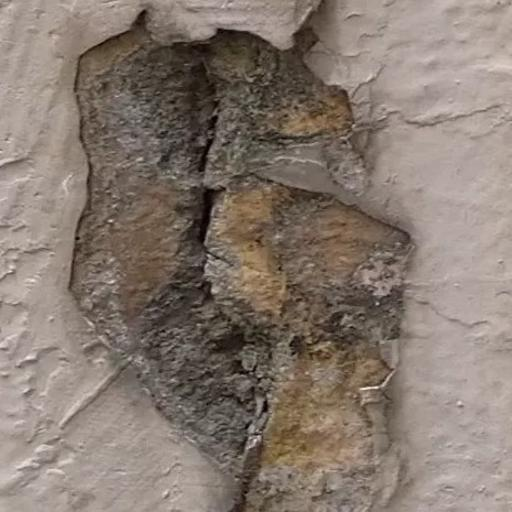spalling: (61, 0, 429, 512)
